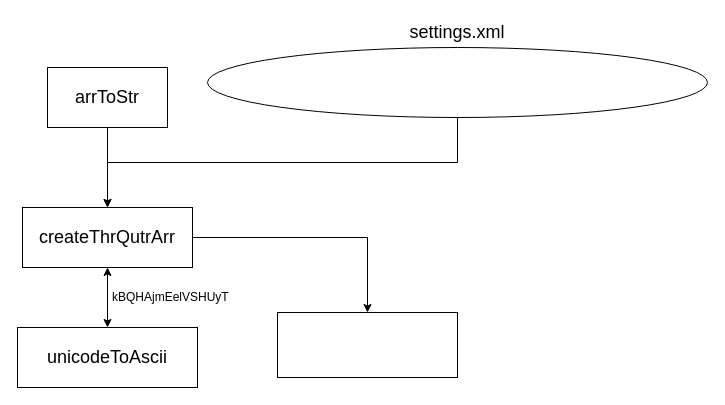
The diagram is 725 pixels wide and 405 high, and some of its shapes have lost their labels. Each missing label, with the centre of its shape:
assignOnce: pixel 367 345
Name: kBQHAjmEelVSHUyT Value:="c/blrFFGzJwUDWpdVBM1WO9x...8e7RRmnM=: pixel 457 82
